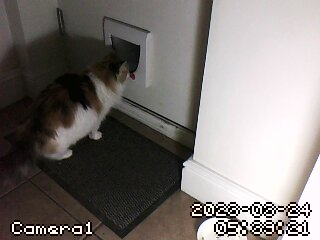clara: (32, 53, 148, 161)
